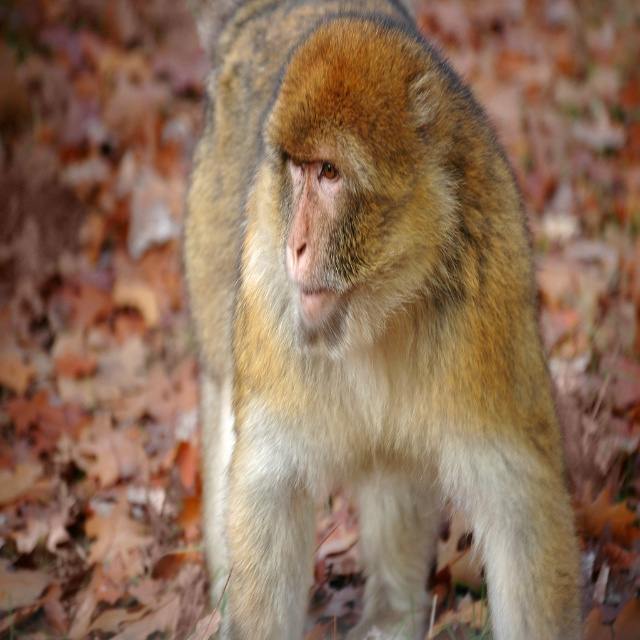Monkey: (181, 1, 589, 640)
